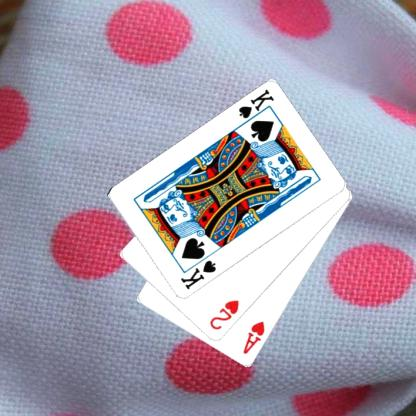2H: (207, 297, 240, 332)
AH: (240, 319, 266, 356)
KS: (235, 87, 276, 127), (178, 258, 217, 292)
